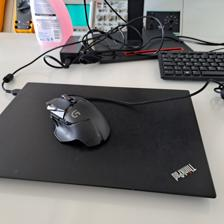mouse: (42, 91, 112, 150)
